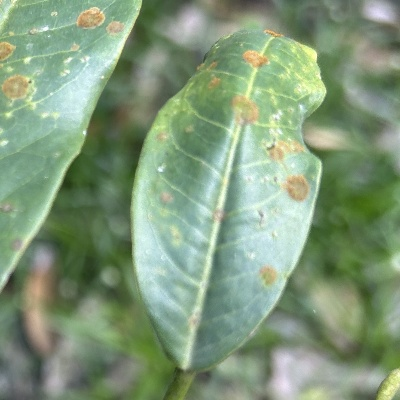Leaf_Algal: (128, 28, 328, 389)
